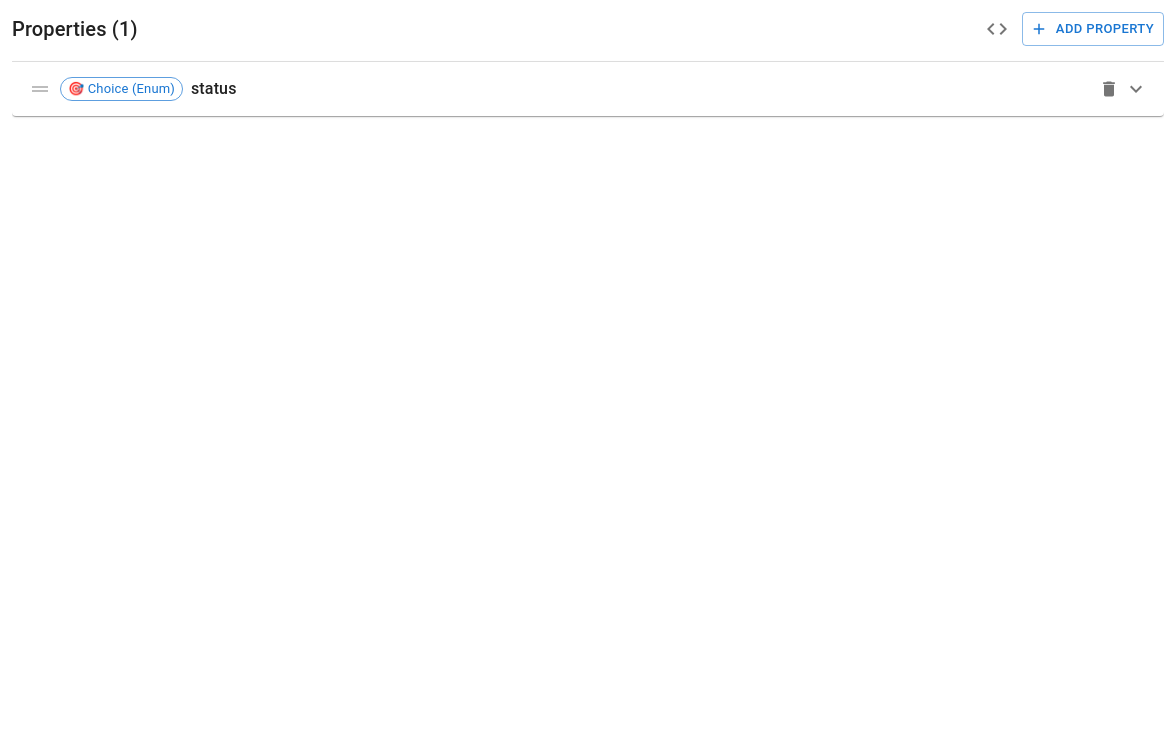
PropertySchemaBuilder › handles enum type with choices
Click the text "status".
click(214, 89)  # box [191,77,237,101]
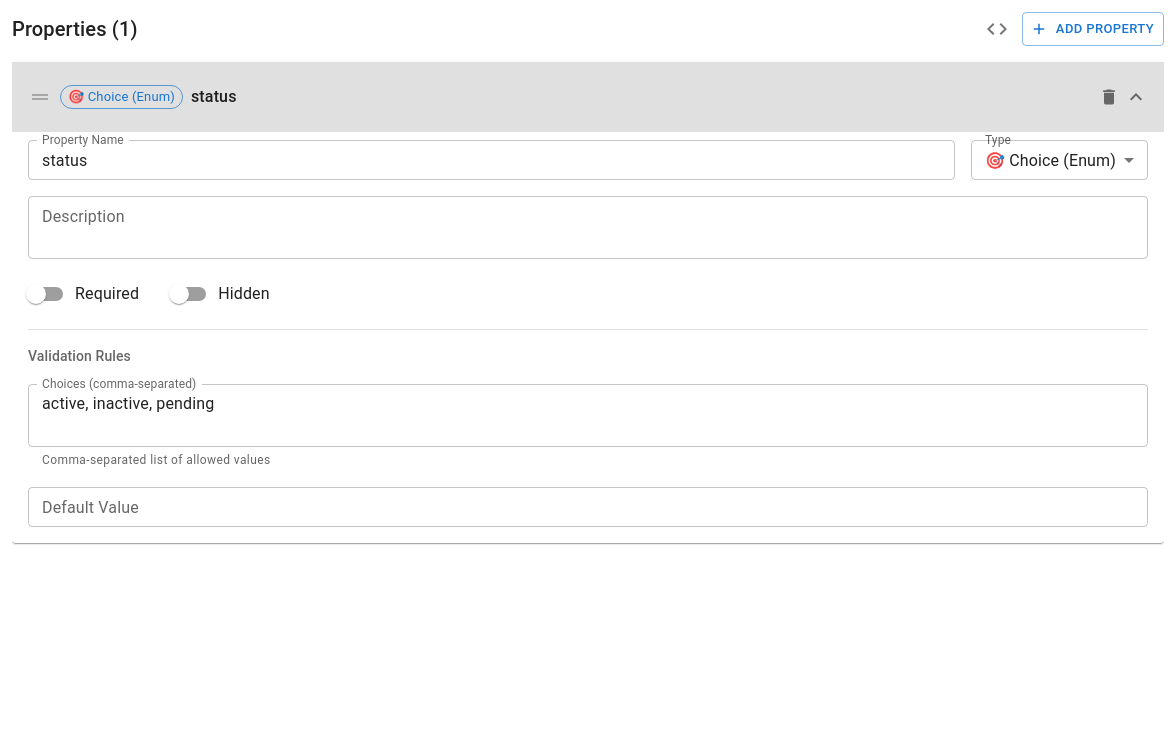
Check: the text box showing "active, inactive, pending" is shown, box [42,392,1134,438]
